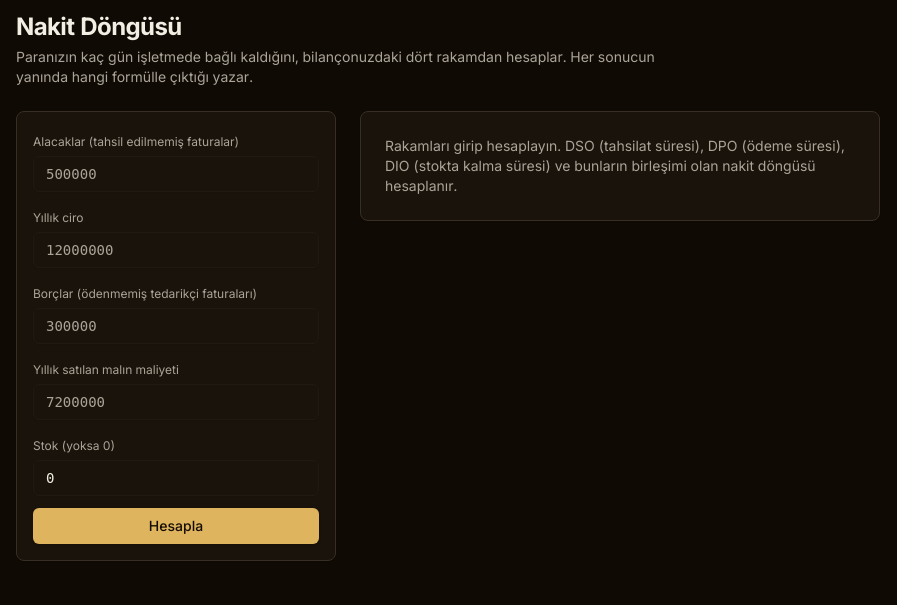
Scenario: Nakit Döngüsü › shows each metric with the formula it came from
Type "60000" into the number field labelled "Alacaklar (tahsil edilmemiş faturalar)" at (176, 174), box top-left (33, 156), bottom-right (319, 192)
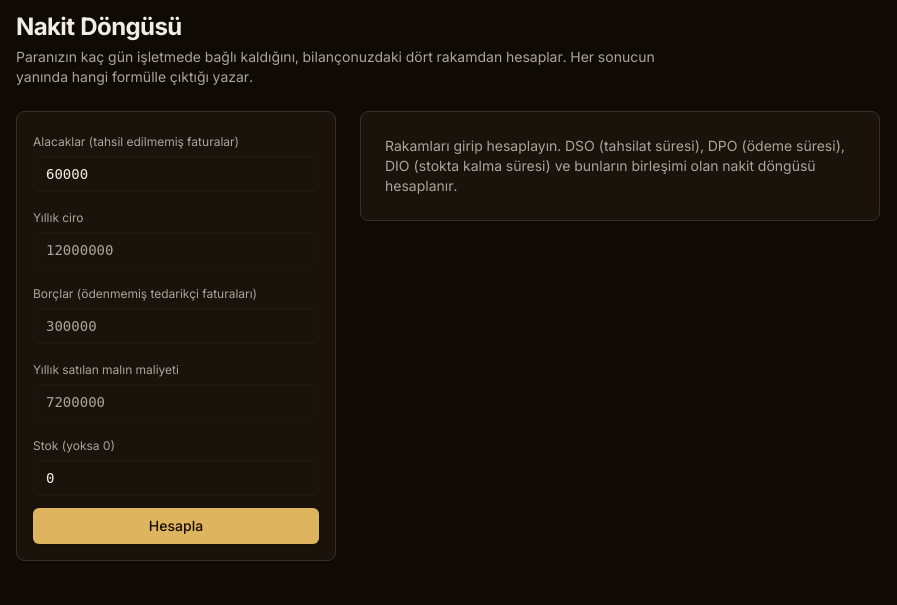
Type "365000" into the number field labelled "Yıllık ciro" at (176, 250), box top-left (33, 232), bottom-right (319, 268)
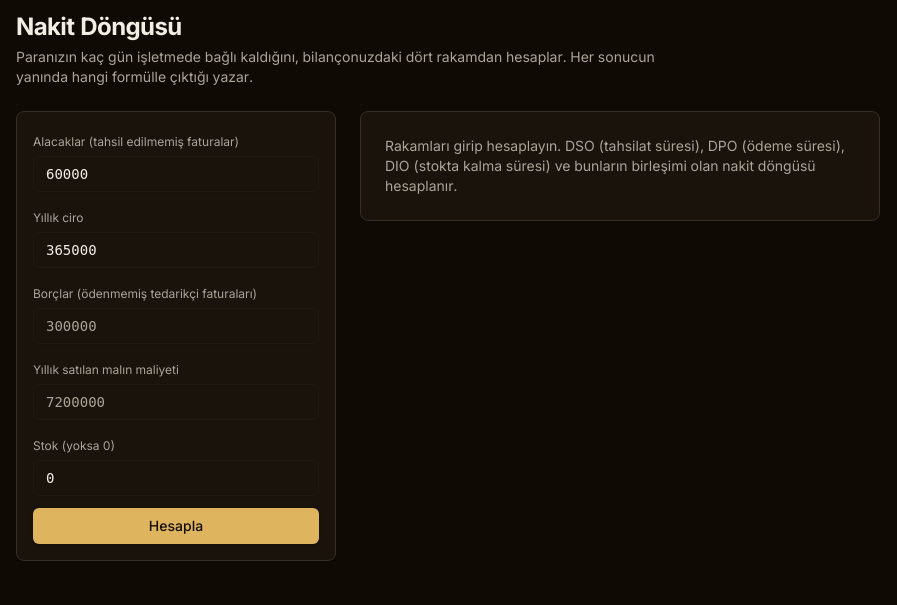
Click the button "Hesapla" at (176, 526), box top-left (33, 508), bottom-right (319, 544)
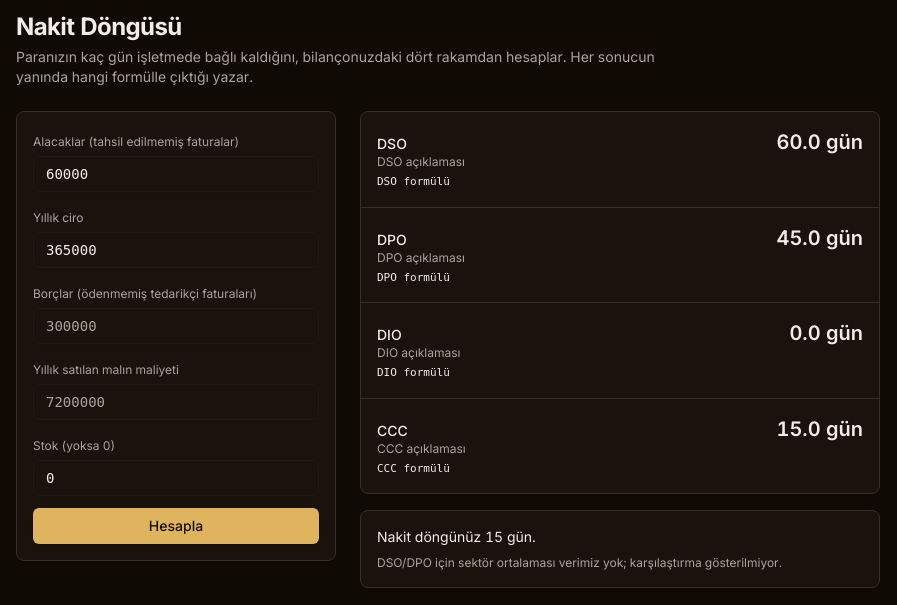
Expected: the text "60.0 gün" is shown, top-left (776, 128), bottom-right (863, 156)
Expected: the text "DSO formülü" is shown, top-left (377, 175), bottom-right (450, 188)
Expected: the text "sektör ortalaması verimiz yok" is shown, top-left (377, 555), bottom-right (782, 570)
